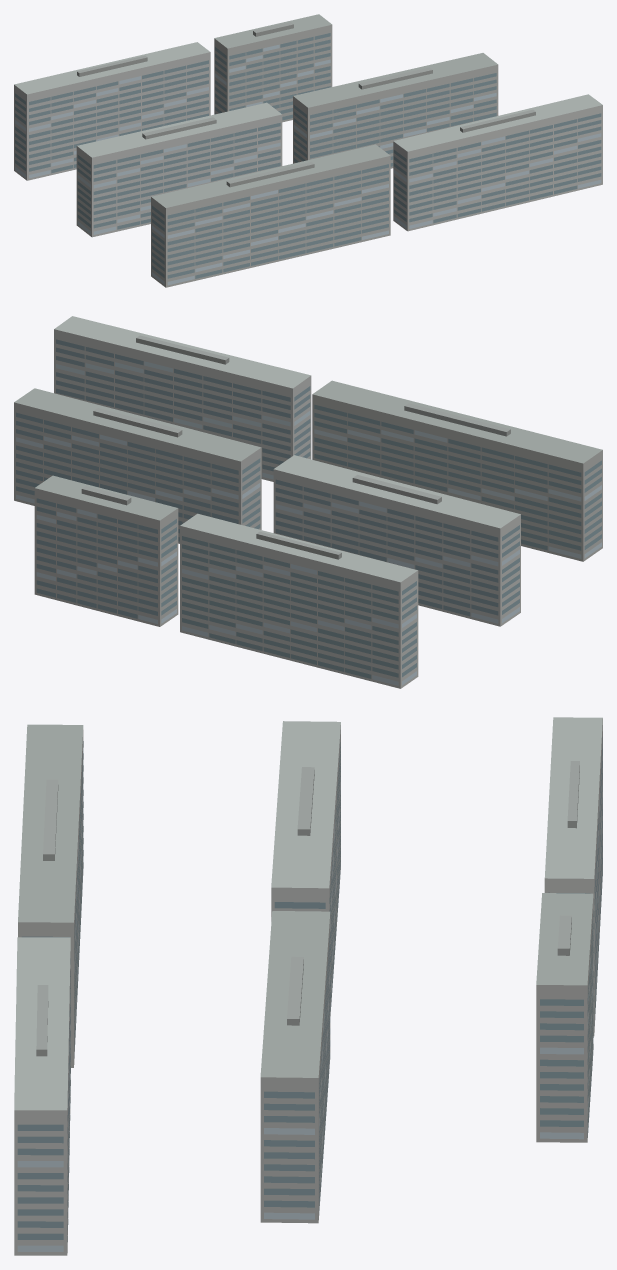
File: apt-a13782602.glb
3 views of the same model, one above another, from view 1: azimuth 30°, elevation 25°; view 2: azimuth 150°, elevation 25°; view 3: azimuth 270°, elevation 25° (orthographic). The views are drawn at different scales.
Visible parts, largest first — view 1: apt-a13782602; view 2: apt-a13782602; view 3: apt-a13782602.
Part boxes in pixels (x1,y1,x2,y2): apt-a13782602: (14, 14, 602, 287); apt-a13782602: (14, 316, 602, 688); apt-a13782602: (14, 717, 602, 1255).
Size of the model in its own units: 210 by 41.43 by 134.
